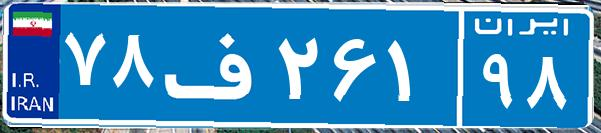1: (385, 28, 445, 110)
2: (273, 28, 330, 110)
6: (330, 28, 385, 110)
7: (57, 26, 110, 107)
8: (110, 28, 158, 105), (525, 38, 570, 115)
9: (475, 38, 525, 113)
ف: (158, 15, 273, 115)
